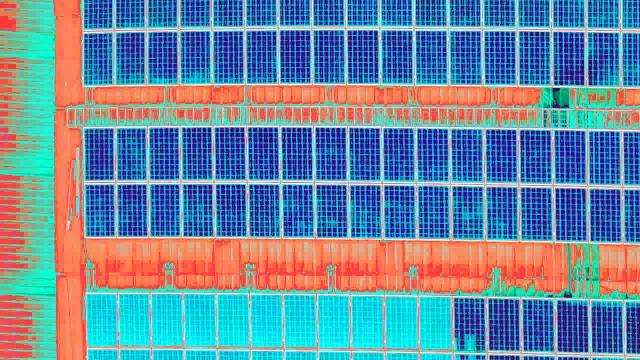clean: (115, 127, 148, 181), (148, 125, 181, 179), (181, 126, 214, 180), (216, 126, 249, 180), (248, 126, 281, 180), (281, 127, 314, 181), (315, 127, 348, 181), (349, 127, 382, 181), (382, 127, 415, 181), (415, 126, 448, 180), (449, 129, 482, 183), (485, 129, 518, 183), (520, 130, 553, 184), (555, 130, 588, 184), (589, 131, 622, 185), (590, 186, 623, 240), (555, 186, 588, 240), (521, 185, 554, 239), (486, 185, 519, 239), (450, 184, 483, 238), (416, 184, 449, 238), (382, 182, 415, 236), (349, 184, 382, 238), (315, 183, 348, 237), (282, 183, 315, 237), (246, 182, 279, 236), (213, 181, 246, 235), (180, 182, 213, 236), (147, 181, 180, 235), (114, 181, 147, 235), (82, 183, 113, 237), (85, 128, 116, 182), (488, 299, 519, 353), (455, 298, 486, 352), (522, 298, 553, 352), (592, 298, 623, 352), (556, 298, 587, 352), (83, 32, 114, 86), (112, 30, 143, 84), (145, 30, 176, 84), (180, 29, 211, 83), (211, 28, 242, 82), (246, 28, 277, 82), (280, 28, 311, 82), (314, 28, 345, 82), (347, 28, 378, 82), (381, 29, 412, 83), (415, 30, 446, 84), (451, 30, 482, 84), (485, 30, 516, 84), (519, 30, 550, 84), (554, 30, 585, 84), (586, 30, 617, 84)
dirty: (86, 294, 118, 346), (118, 294, 150, 346), (152, 295, 184, 347), (185, 293, 217, 345), (218, 294, 250, 346), (252, 293, 284, 345), (284, 294, 316, 346), (318, 296, 350, 348), (351, 296, 383, 348), (384, 295, 416, 347), (420, 296, 452, 348)
